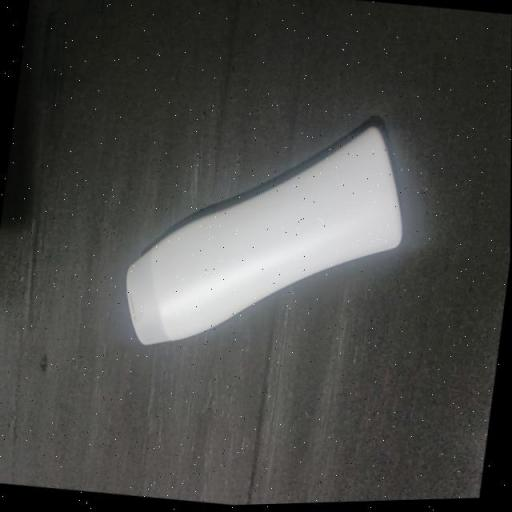plastic: (82, 71, 436, 406)
